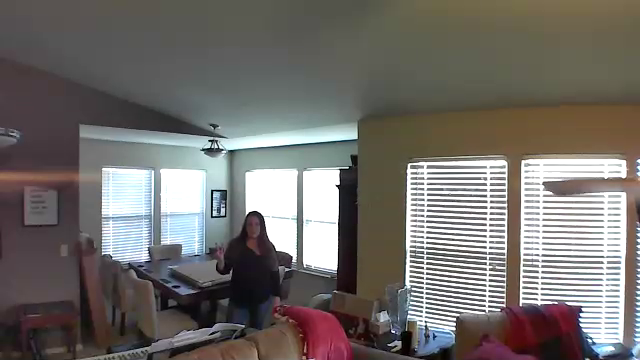peace: (209, 237, 229, 266)
